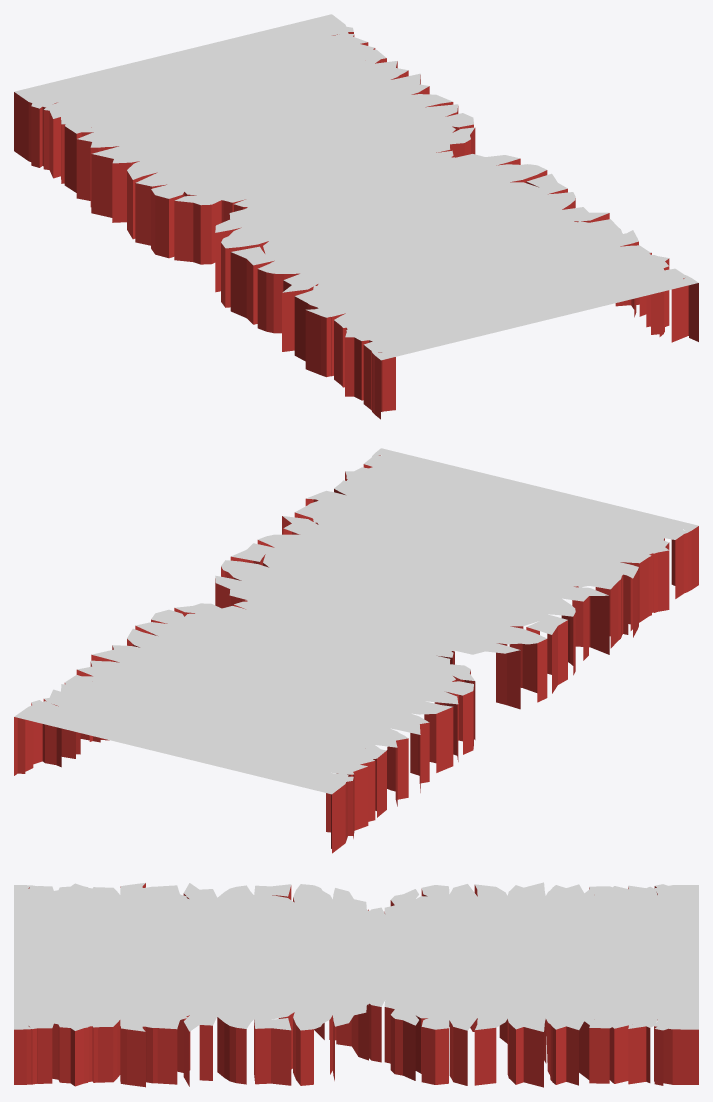
File: newice3 3.fbx
The picture shows the model from 3 angles, top to bottom: view 1: azimuth 30°, elevation 25°; view 2: azimuth 150°, elevation 25°; view 3: azimuth 270°, elevation 25°; orthographic projection. The views are drawn at different scales.
Visible parts, largest first — view 1: r, r.001; view 2: r, r.001; view 3: r, r.001.
Part boxes in pixels (x1,y1,x2,y2): r: (14,17,698,419); r.001: (14,14,697,412); r: (14,448,698,853); r.001: (14,448,688,850); r: (14,882,692,1087); r.001: (14,882,698,1087).
Bounding box in the file's own units: 2899 × 500 × 5600.
